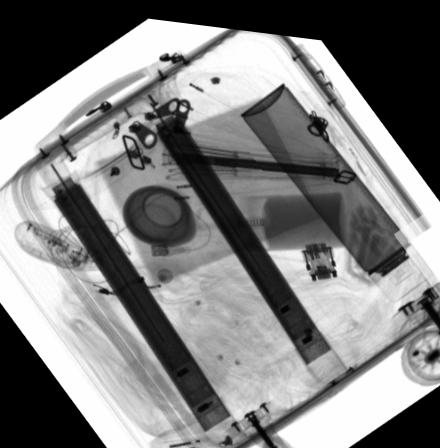Sprayer: (238, 75, 432, 294)
